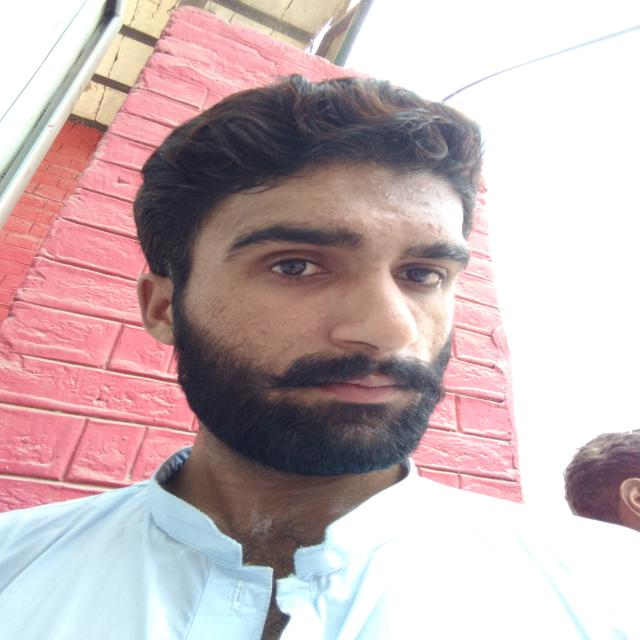Acne: (327, 214, 368, 226), (425, 220, 446, 235), (421, 199, 429, 206), (374, 266, 384, 271)
Dry-Skin: (322, 210, 448, 232), (391, 190, 445, 209), (326, 191, 374, 208)
Englarged-Pores: (210, 298, 266, 337), (411, 303, 448, 349), (265, 315, 326, 341)
Eyebags: (266, 273, 336, 294), (396, 279, 440, 296)
